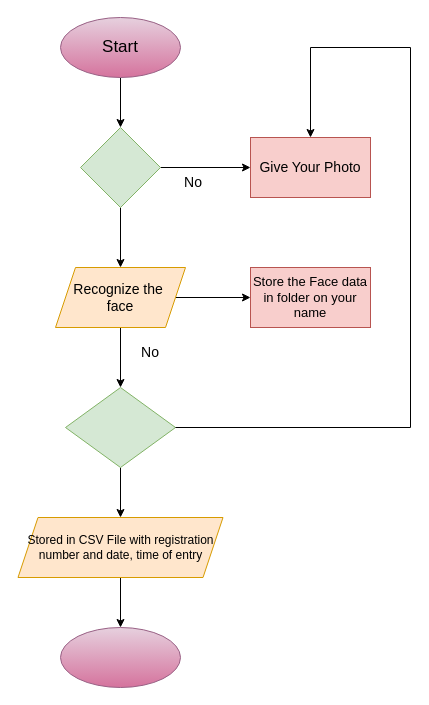
This 429x705 diagram has some shape labels left out. The box of each missing label's shape, as (x1, y1, x2, y2) in pixels:
End: (60, 626, 180, 688)
Face Recognized: (64, 386, 176, 468)
New User: (80, 126, 160, 208)
